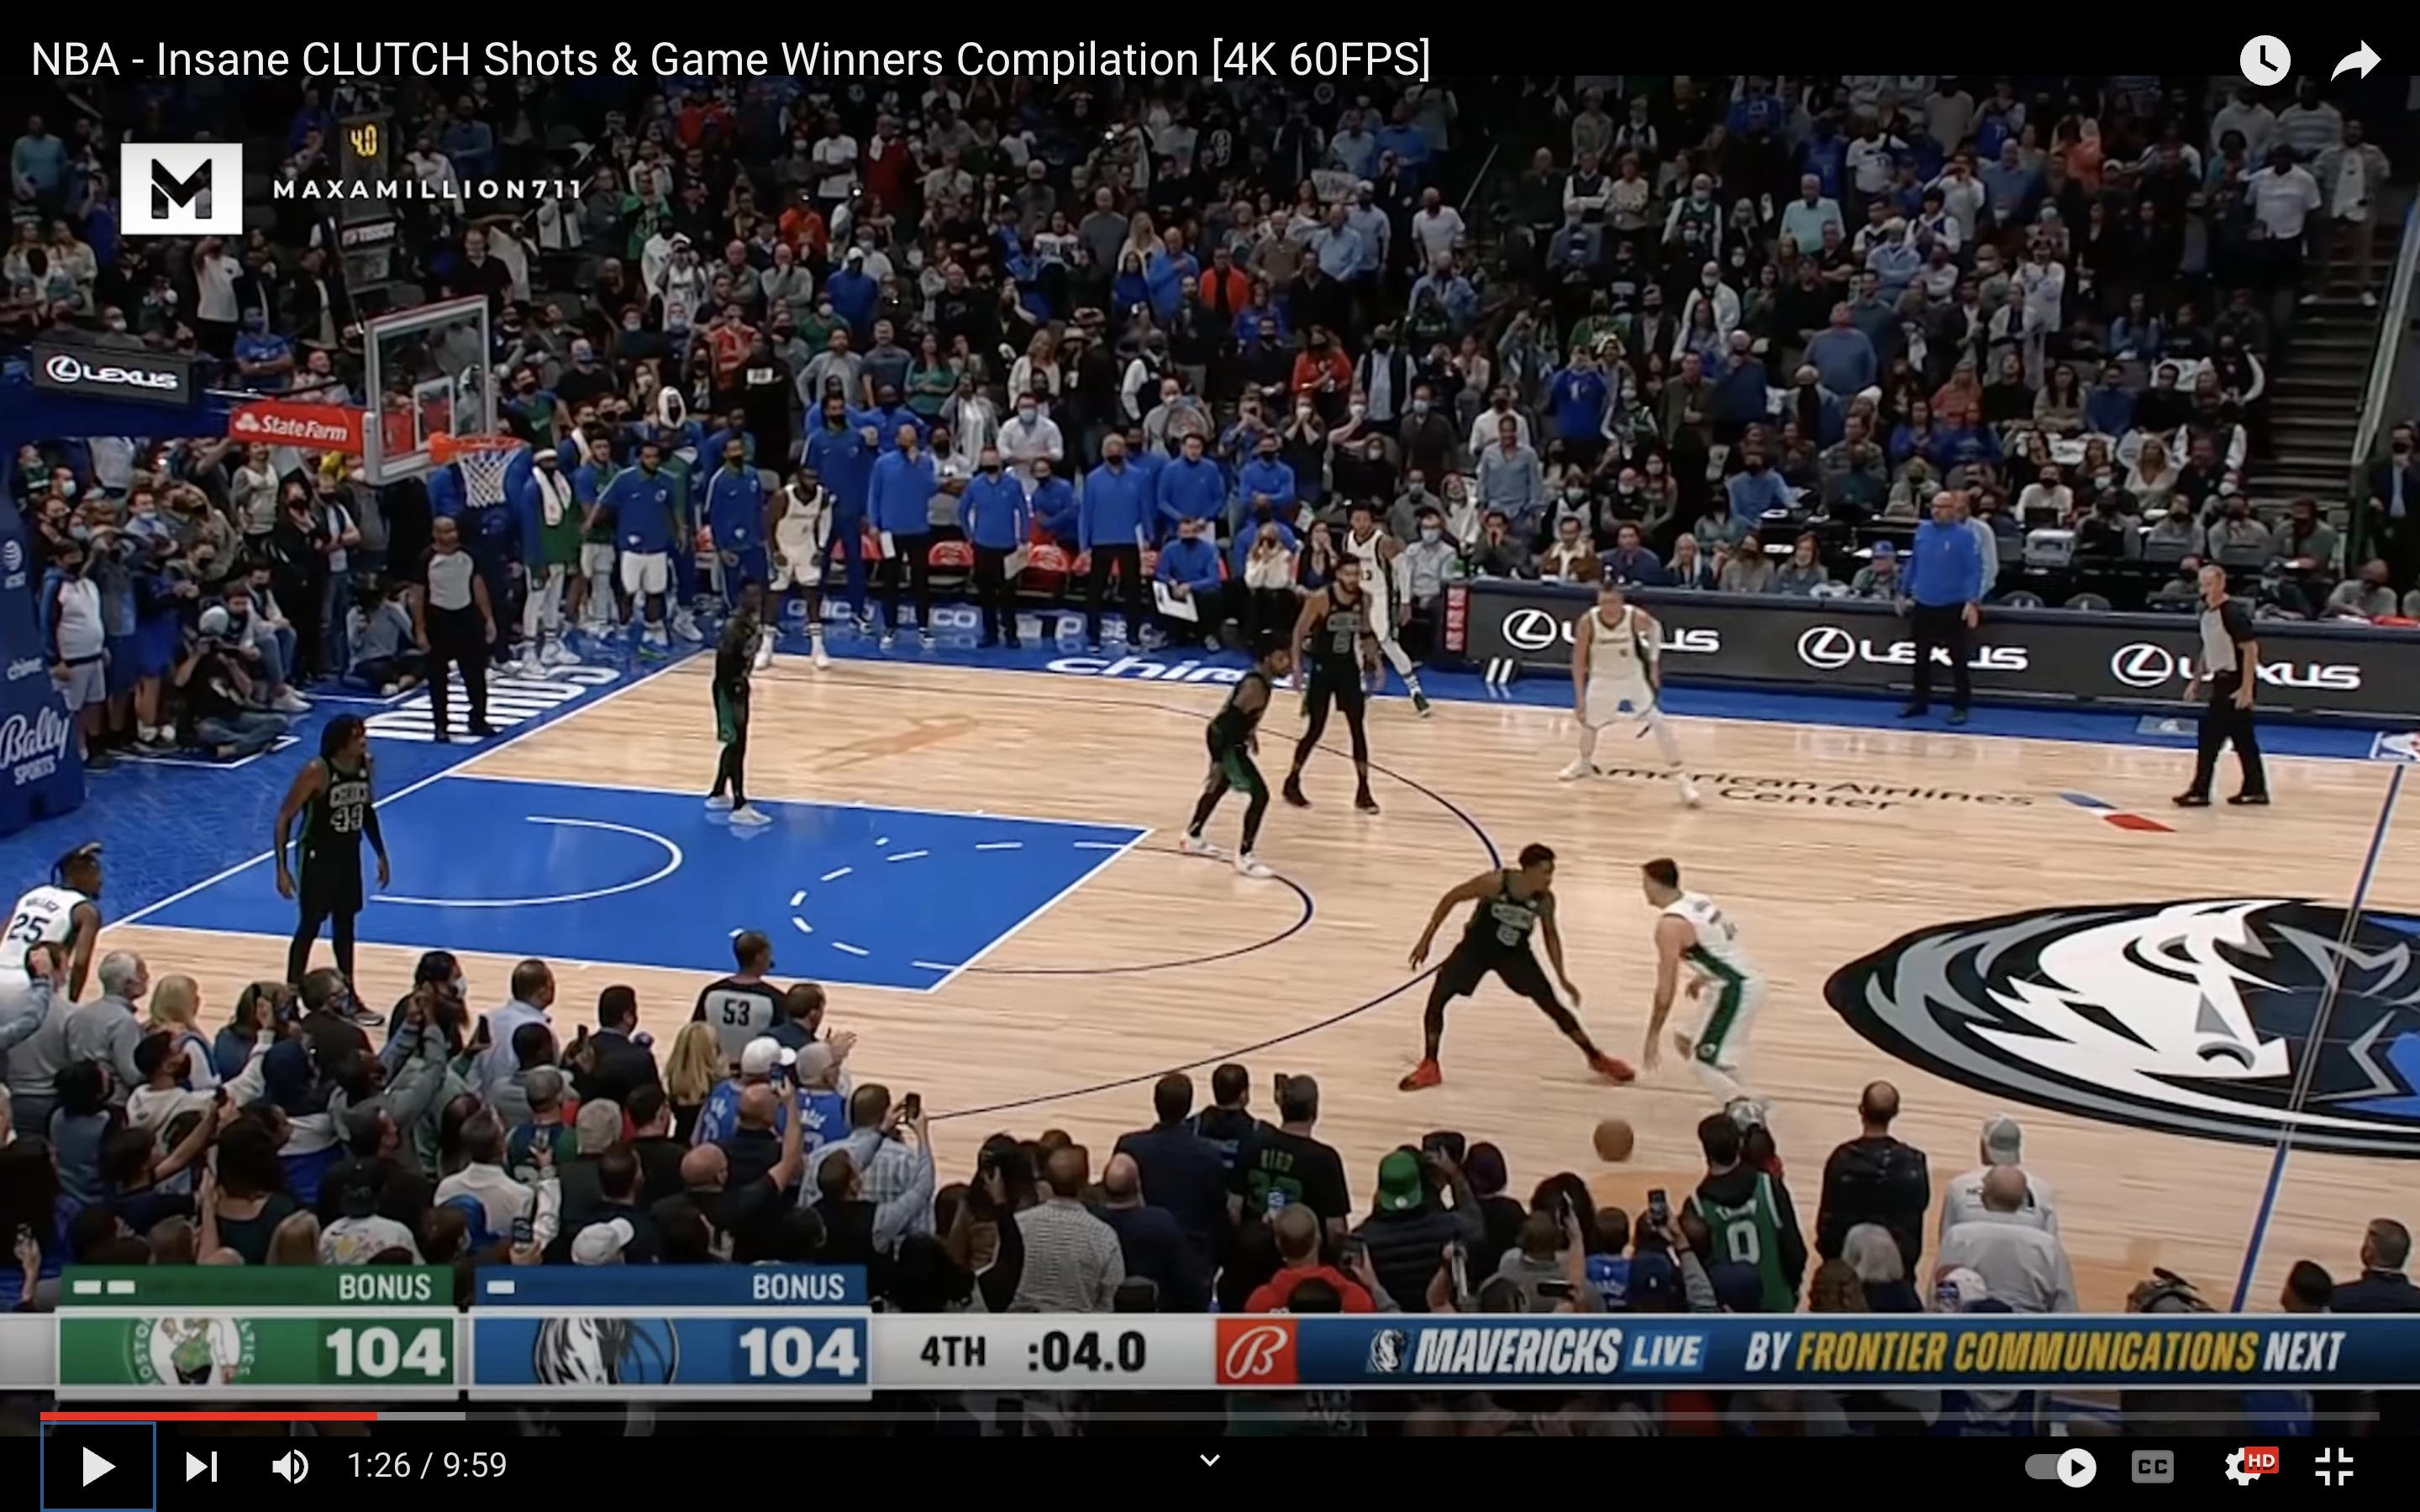Backboard: (369, 300, 492, 479)
Ball: (1590, 1116, 1636, 1166)
Basket: (437, 424, 523, 507)
Dribble: (1596, 1150, 1634, 1172)
Person: (1385, 837, 1644, 1092), (1628, 853, 1800, 1149), (271, 706, 389, 1052), (1567, 575, 1703, 816), (1281, 550, 1402, 823), (1176, 623, 1294, 880), (0, 837, 118, 1053), (1330, 498, 1437, 725), (703, 567, 785, 834), (759, 460, 841, 682)
Referee: (2175, 550, 2276, 823)
Shot Clock: (328, 108, 409, 287)
